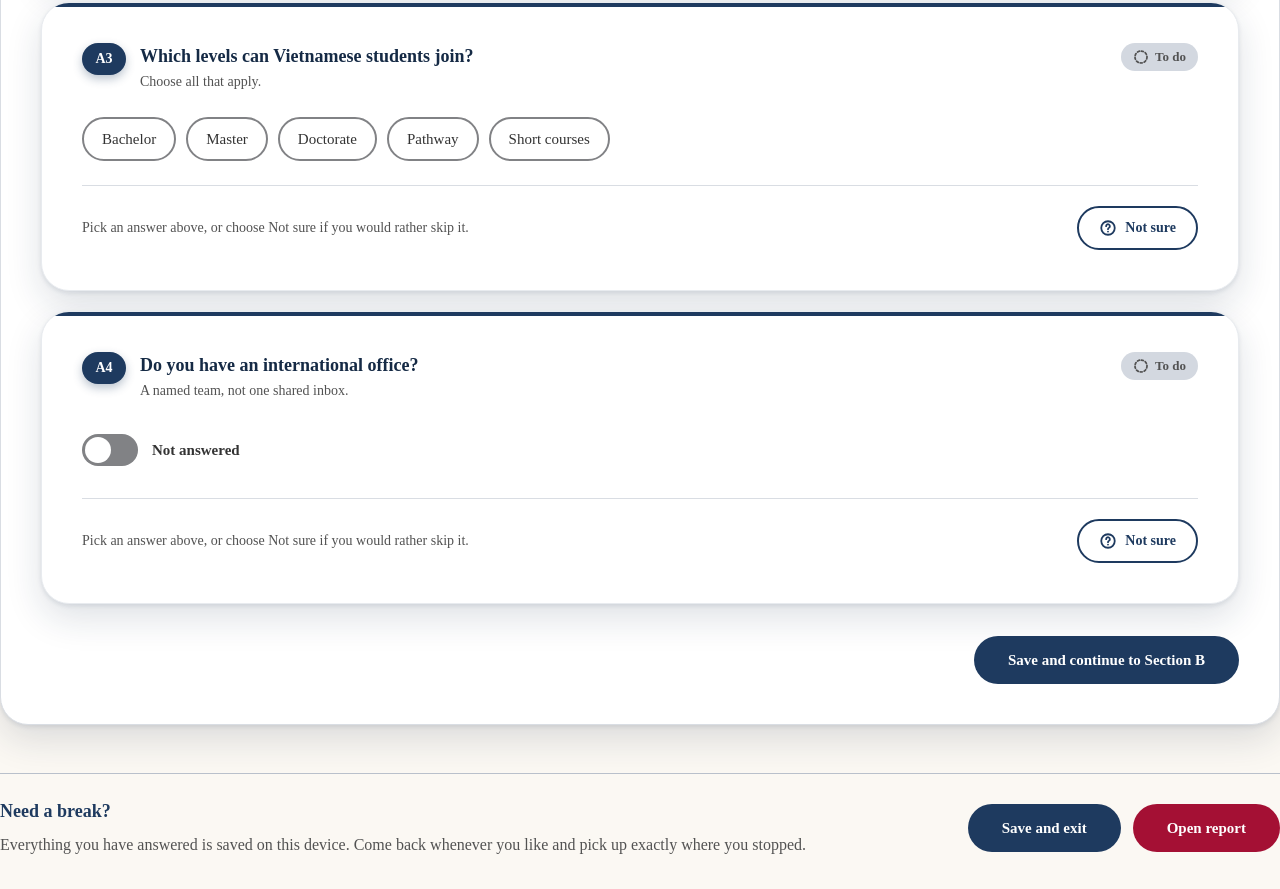
Test case: IntakePage evidence tags › starts with no tag selected and asks for one, until the person picks
The image size is (1280, 889).
(page scrolled)
Click the switch at coordinates (110, 450), box x1=82 y1=434 x2=138 y2=466
(page scrolled)
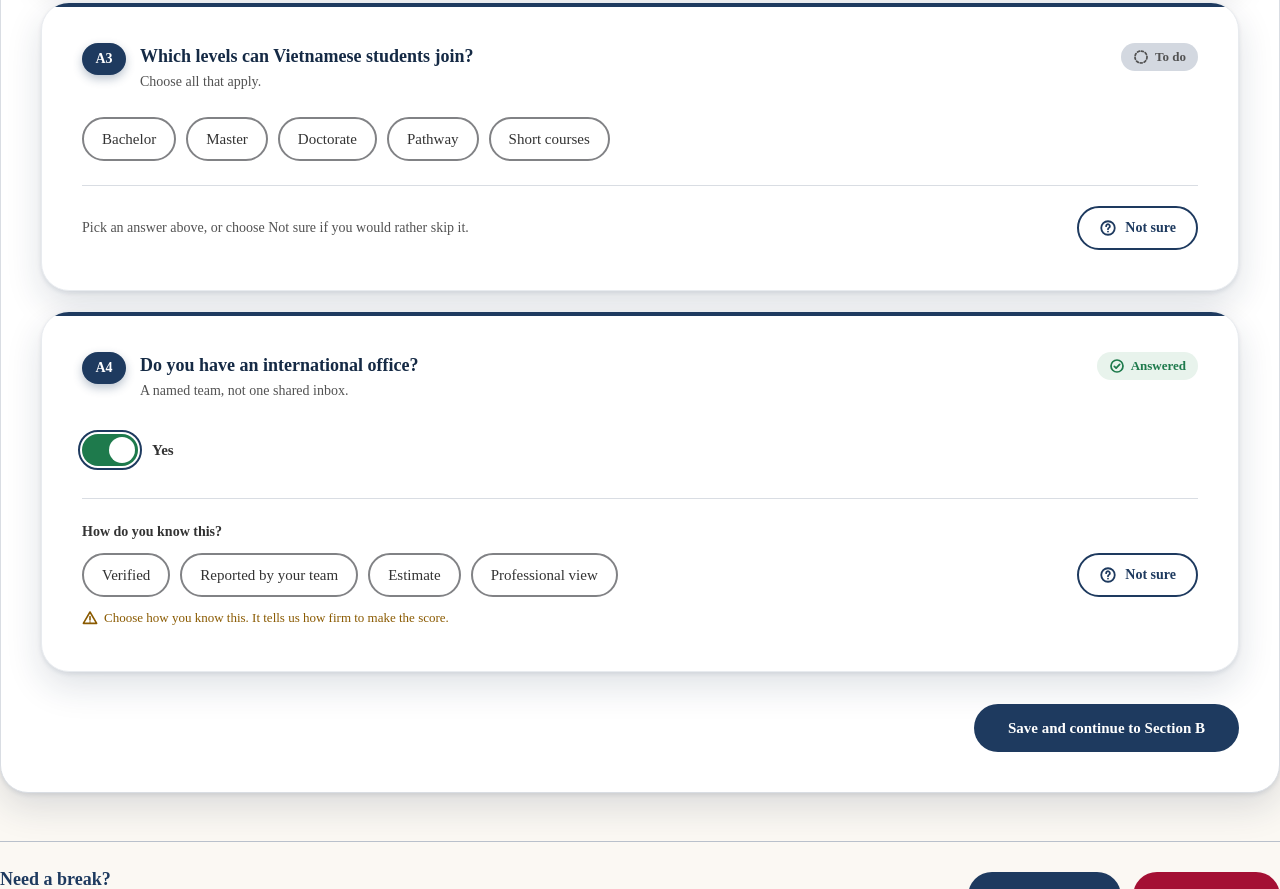
Check: the radio button labelled "Verified" is not checked, box x1=82 y1=553 x2=170 y2=597
Check: the radio button labelled "Reported by your team" is not checked, box x1=180 y1=553 x2=358 y2=597
Check: the radio button labelled "Estimate" is not checked
Click the radio button labelled "Estimate" at coordinates (414, 575), box x1=368 y1=553 x2=461 y2=597
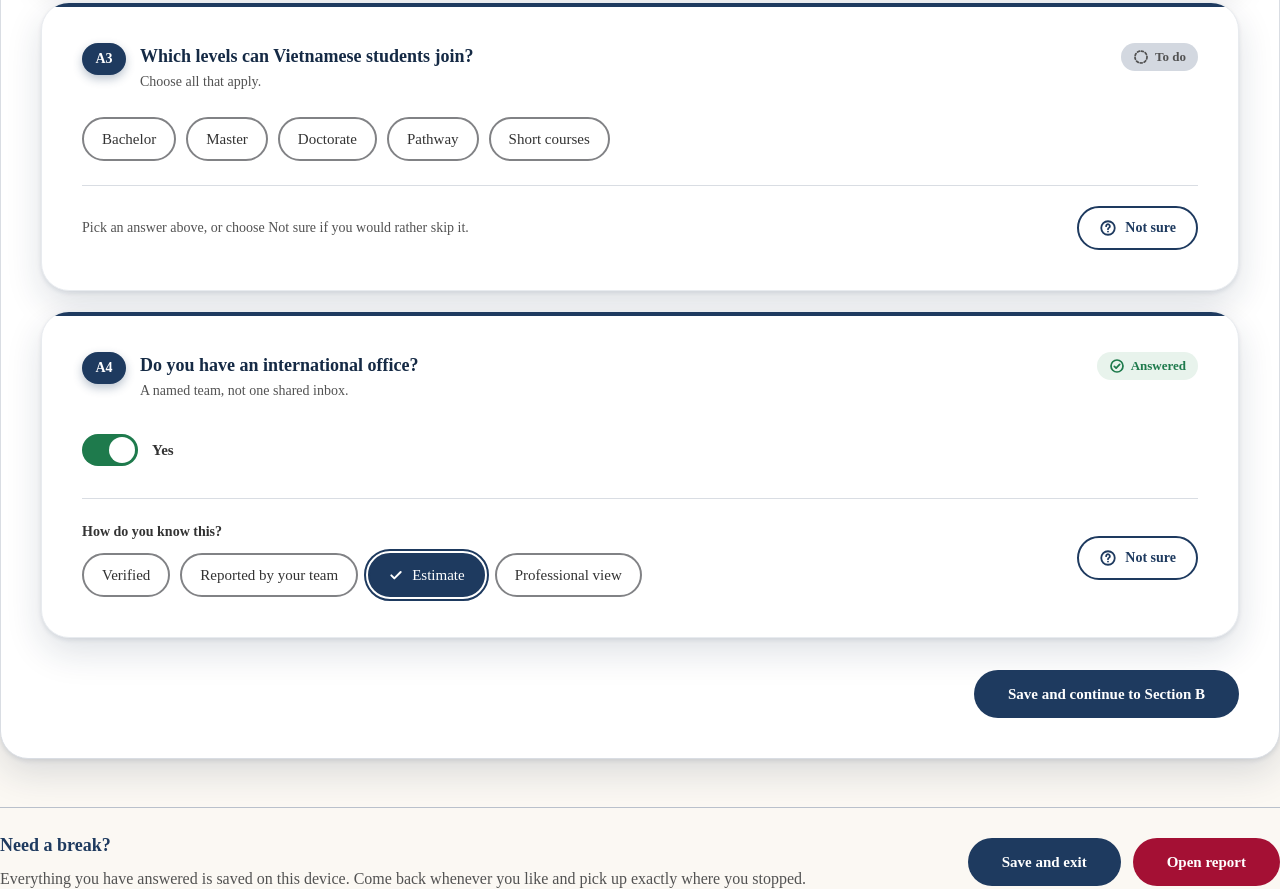
Check: the radio button labelled "Estimate" is checked, box x1=368 y1=553 x2=485 y2=597
Check: the text "Choose how you know this. It tells us how firm to make the score." is gone
